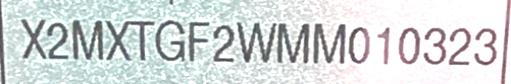letter: (235, 17, 276, 65), (273, 20, 311, 64), (309, 20, 347, 64), (69, 15, 105, 61), (154, 18, 186, 62), (102, 18, 134, 61), (18, 16, 48, 60), (128, 18, 155, 62), (186, 18, 211, 64), (446, 25, 473, 65), (396, 24, 423, 63), (211, 21, 236, 63), (421, 25, 447, 65), (472, 26, 498, 66), (46, 20, 70, 61), (346, 23, 370, 63), (373, 24, 394, 63)
